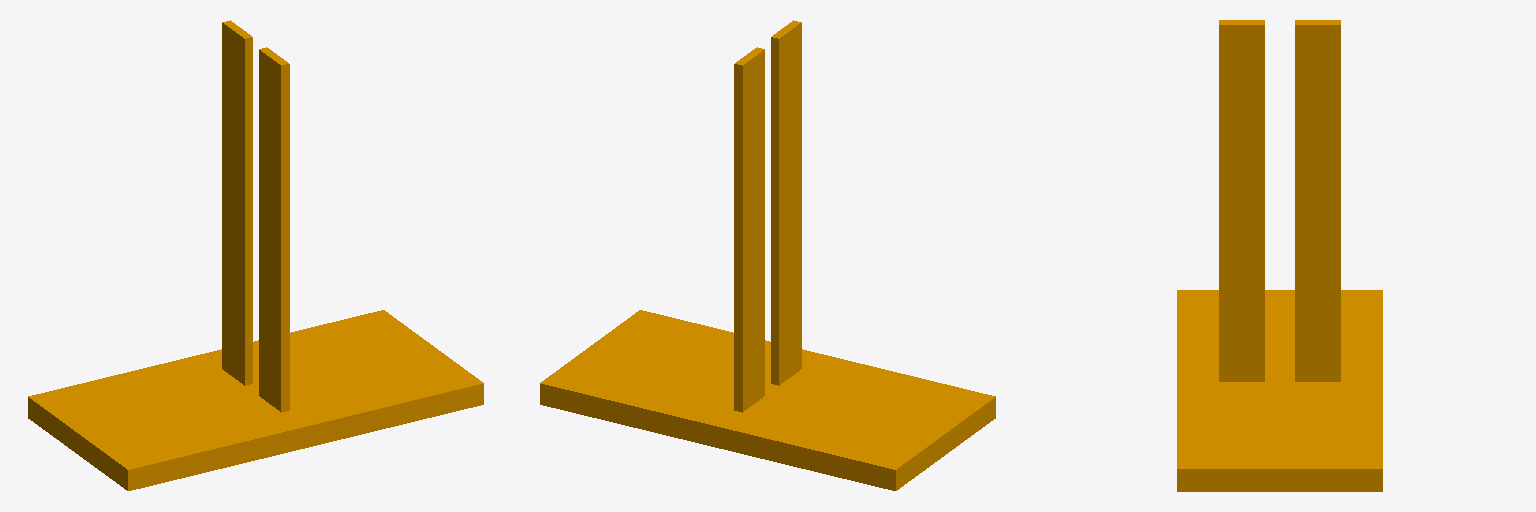
The robot description file, URDF, robot "gear_support":
<?xml version="1.0"?>
<robot name="gear_support">
  <link name="base_link">
    <!-- visual model -->
    <visual>
      <origin xyz="0 0 0.005"/>
      <geometry>
        <box size=".174 .085 .01"/>
      </geometry>
    </visual>
    <visual>
      <origin xyz="0 .0155 0.091"/>
      <geometry>
        <box size=".004 .019 .162"/>
      </geometry>
    </visual>
    <visual>
      <origin xyz="0 -.0155 0.091"/>
      <geometry>
        <box size=".004 .019 .162"/>
      </geometry>
    </visual>
    <!-- collision model -->
    <collision>
      <origin xyz="0 0 0.005"/>
      <geometry>
        <box size=".174 .085 .01"/>
      </geometry>
    </collision>
    <collision>
      <origin xyz="0 .0155 0.091"/>
      <geometry>
        <box size=".004 .019 .162"/>
      </geometry>
    </collision>
    <collision>
      <origin xyz="0 -.0155 0.091"/>
      <geometry>
        <box size=".004 .019 .162"/>
      </geometry>
    </collision>
  </link>
</robot>

--- Render facts (derived) ---
The picture shows the robot from 3 angles, left to right: view 1: azimuth 30°, elevation 25°; view 2: azimuth 150°, elevation 25°; view 3: azimuth 270°, elevation 25°; orthographic projection.
Model gear_support with 1 links and 0 joints (none), rooted at base_link, posed every joint at zero.
Links seen in each view (by area): view 1: base_link; view 2: base_link; view 3: base_link.
Boxes of the visible links, box(x1,y1,x2,y2) form: base_link: box(28, 20, 483, 490); base_link: box(540, 20, 995, 490); base_link: box(1177, 20, 1382, 491).
Bounding box of the posed robot: 0.174 × 0.085 × 0.172 m (x, y, z).
Geometry: primitives only (box / cylinder / sphere), no mesh files.
